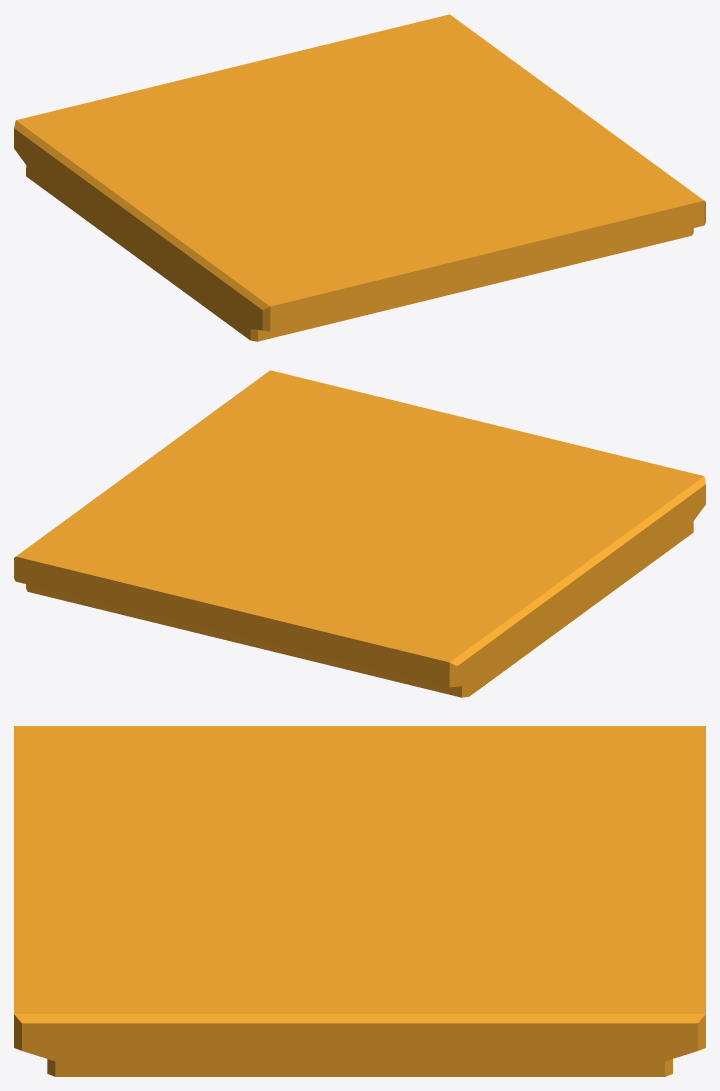
The model's file is SM_Train_Sidewalk_A.fbx.
3 renders of one model, top to bottom at view 1: azimuth 30°, elevation 25°; view 2: azimuth 150°, elevation 25°; view 3: azimuth 270°, elevation 25°, orthographic. The views are drawn at different scales.
Visible parts, largest first — view 1: SM_Train_Sidewalk_A; view 2: SM_Train_Sidewalk_A; view 3: SM_Train_Sidewalk_A.
Boxes of the visible parts, bbox=[...] form: SM_Train_Sidewalk_A: bbox=[14, 14, 705, 341]; SM_Train_Sidewalk_A: bbox=[14, 370, 705, 697]; SM_Train_Sidewalk_A: bbox=[14, 726, 705, 1076].
Bounding box in the file's own units: 2 × 0.1901 × 1.99.
